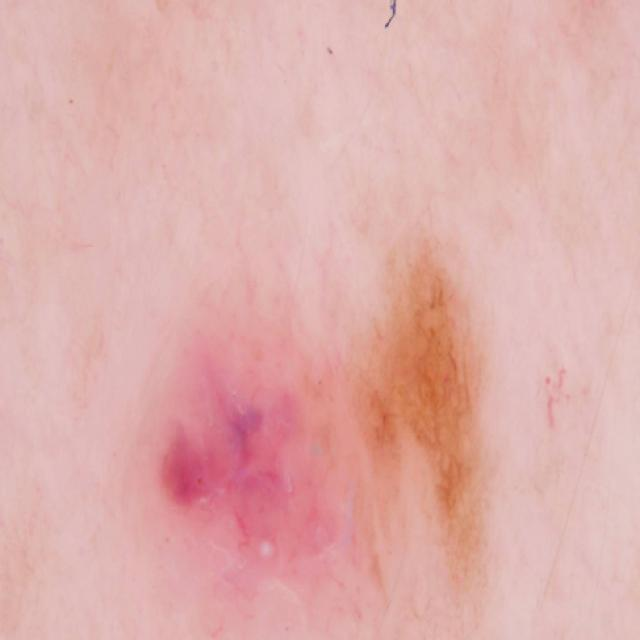Carcinoma: (146, 323, 395, 629), (402, 229, 532, 563)
